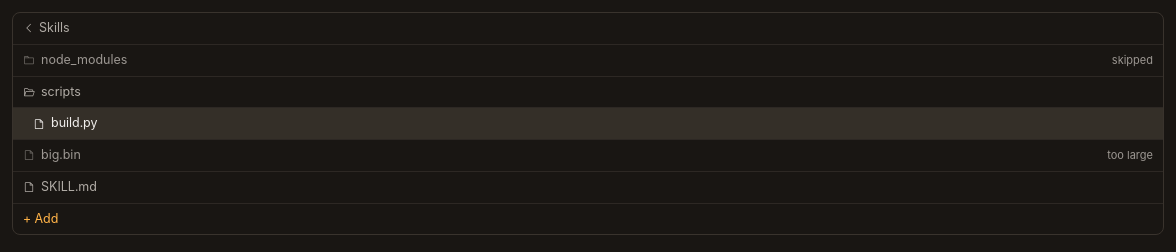
it: SkillBundle › opens the folders above a file opened inside them, and lets them close again
What coordinates should you click on to do the following:
click the button "scripts"
I would click on:
 (61, 91)
Its box is 13,76 -> 1163,108.
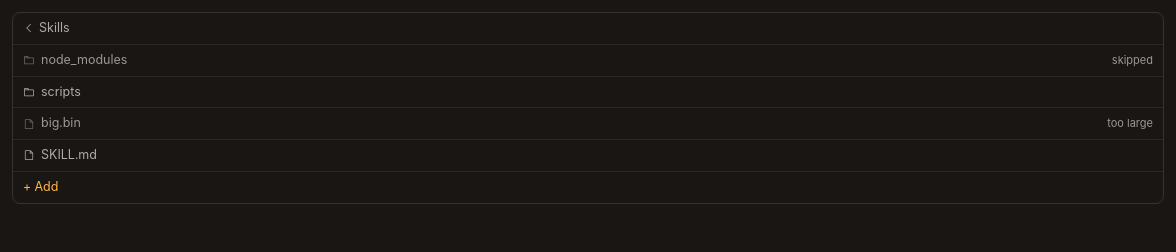
Now the button "build.py" is gone
